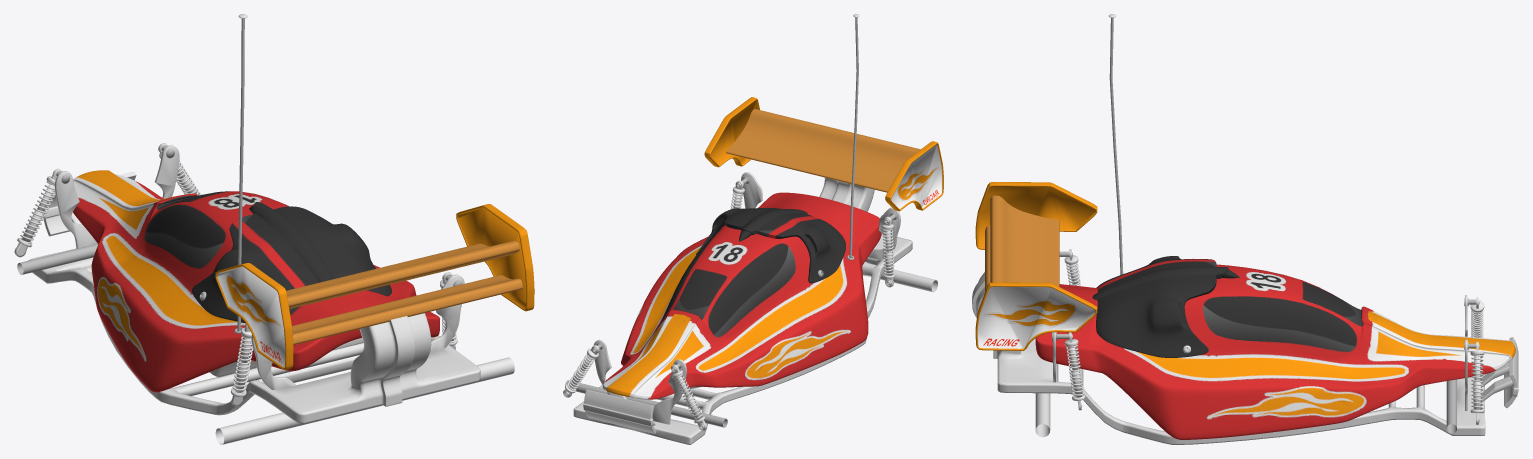
3 renders of one model, left to right at view 1: azimuth 30°, elevation 25°; view 2: azimuth 150°, elevation 25°; view 3: azimuth 270°, elevation 25°, orthographic. The views are drawn at different scales.
Visible parts, largest first — view 1: Body1, Frame, Body2, bevelPolygon4, loftedSurface2, loftedSurface1, bevelPolygon3, nurbsCylinder4, bevelPolygon1.001, extrudedSurface1, nurbsCylinder3, bevelPolygon2 (+5 smaller); view 2: Body1, loftedSurface1, Frame, Body2, bevelPolygon4, pCylinder9, bevelPolygon3, nurbsCylinder3, bevelPolygon1.001, extrudedSurface1, nurbsCylinder4, bevelPolygon2.001 (+3 smaller); view 3: Body1, Body2, Frame, bevelPolygon3, loftedSurface1, bevelPolygon4, pCylinder9, extrudedSurface1, nurbsCylinder4, nurbsCylinder3.
Part boxes in pixels (bbox=[...]): Body1: bbox=[73, 170, 439, 392]; Frame: bbox=[28, 248, 480, 423]; Body2: bbox=[192, 202, 391, 323]; bevelPolygon4: bbox=[215, 263, 293, 369]; loftedSurface2: bbox=[292, 275, 522, 344]; loftedSurface1: bbox=[286, 240, 519, 308]; bevelPolygon3: bbox=[456, 204, 534, 311]; nurbsCylinder4: bbox=[215, 357, 514, 444]; bevelPolygon1.001: bbox=[54, 171, 97, 248]; extrudedSurface1: bbox=[237, 18, 244, 331]; nurbsCylinder3: bbox=[17, 243, 98, 274]; bevelPolygon2: bbox=[430, 274, 464, 352]; Body1: bbox=[602, 192, 881, 399]; loftedSurface1: bbox=[726, 109, 920, 192]; Frame: bbox=[573, 177, 912, 444]; Body2: bbox=[696, 207, 845, 283]; bevelPolygon4: bbox=[885, 141, 943, 211]; pCylinder9: bbox=[583, 389, 656, 434]; bevelPolygon3: bbox=[704, 97, 759, 167]; nurbsCylinder3: bbox=[565, 380, 727, 427]; bevelPolygon1.001: bbox=[652, 359, 686, 424]; extrudedSurface1: bbox=[849, 17, 858, 258]; nurbsCylinder4: bbox=[863, 262, 937, 292]; bevelPolygon2.001: bbox=[865, 207, 900, 265]; Body1: bbox=[1035, 264, 1515, 439]; Body2: bbox=[1092, 256, 1239, 357]; Frame: bbox=[972, 272, 1485, 444]; bevelPolygon3: bbox=[975, 282, 1097, 350]; loftedSurface1: bbox=[990, 195, 1059, 286]; bevelPolygon4: bbox=[975, 182, 1097, 249]; pCylinder9: bbox=[1480, 337, 1518, 407]; extrudedSurface1: bbox=[1109, 18, 1123, 274]; nurbsCylinder4: bbox=[1035, 393, 1050, 437]; nurbsCylinder3: bbox=[1446, 379, 1456, 433].
Bounding box in the file's own units: 0.141 × 0.1928 × 0.269.
Materials: 8 (2 with a texture image).
